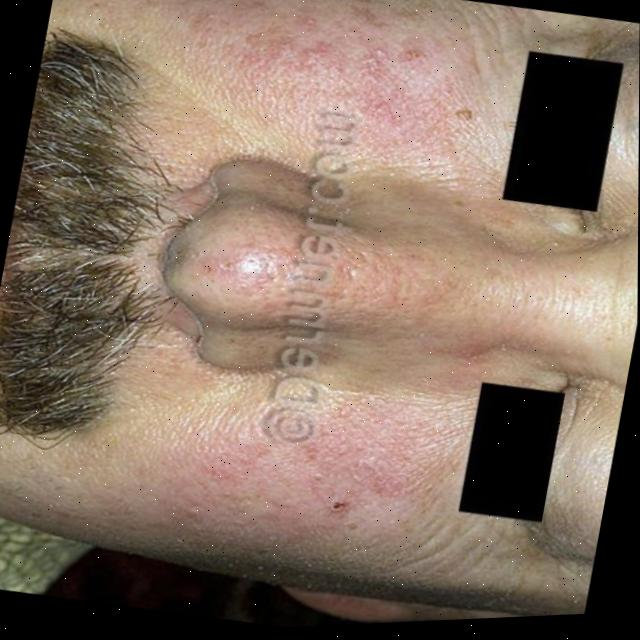Rosacea: (218, 0, 469, 167), (207, 385, 395, 574)
